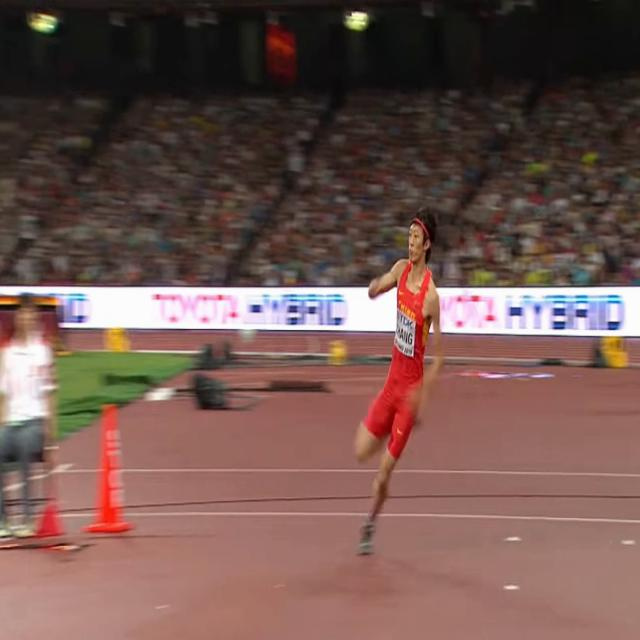run: (352, 203, 444, 556)
